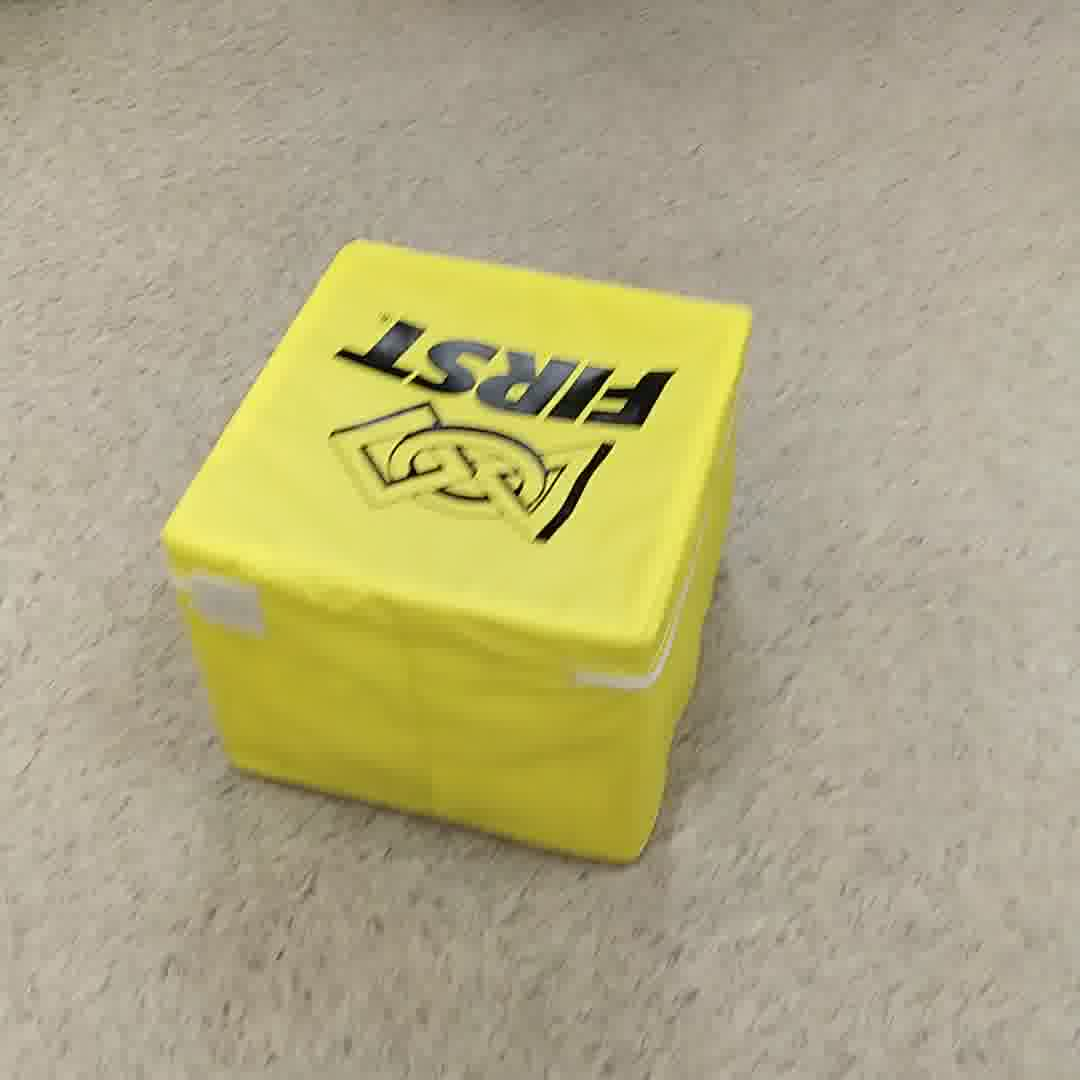box: (157, 236, 757, 887)
